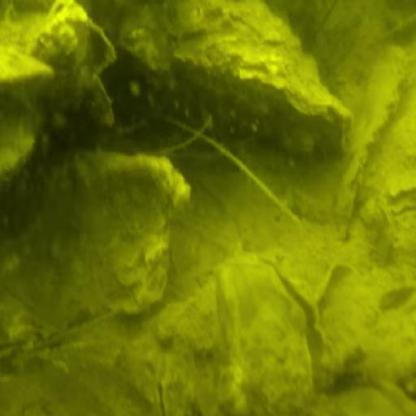Oyster- Indeterminate: (157, 253, 332, 416)
Oyster-Closed: (109, 0, 365, 150), (27, 149, 186, 328), (0, 110, 38, 180), (0, 48, 60, 90)
